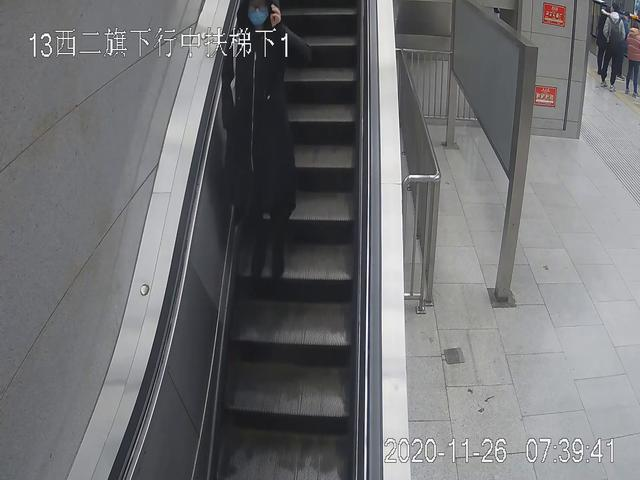person: (218, 1, 307, 282), (600, 5, 624, 88)
